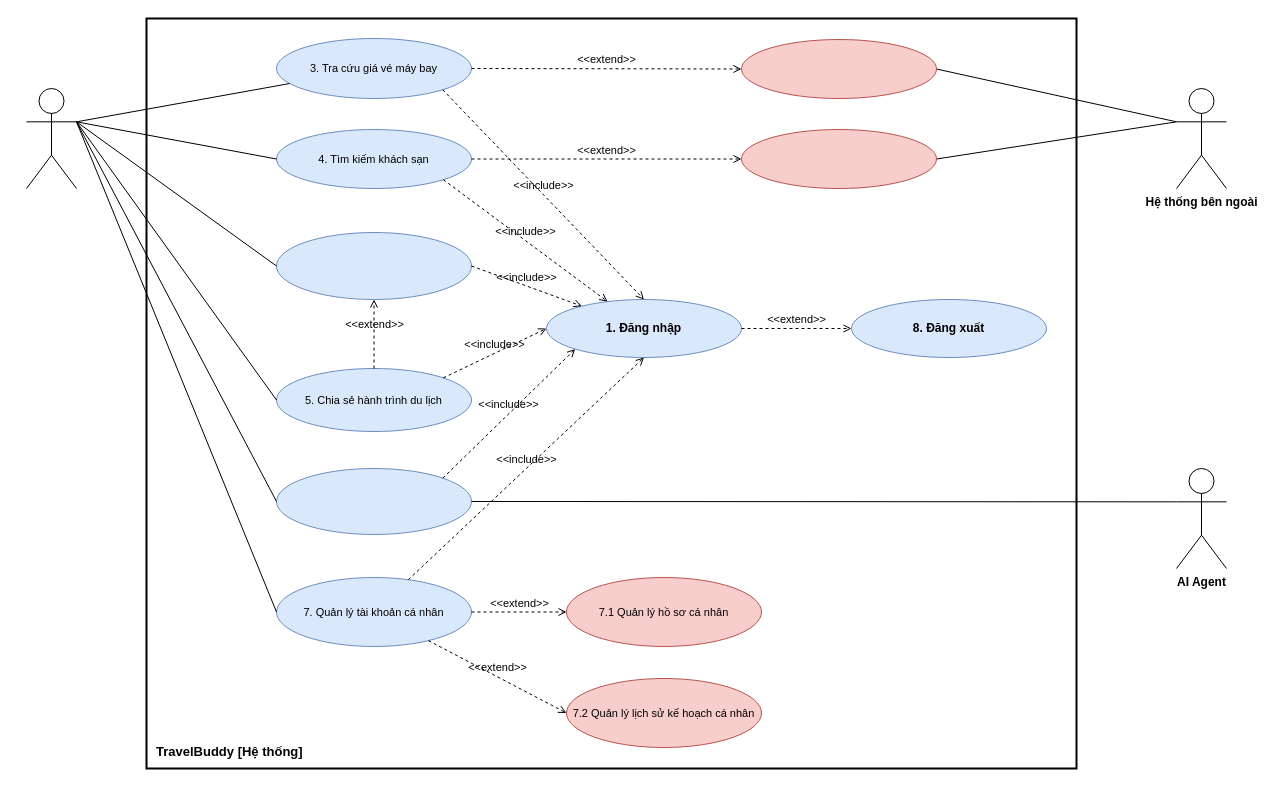
The diagram is 1275 pixels wide and 786 high, and some of its shapes have lost their labels. The centre of each missing label's shape, as x and y in pixels:
"2. Lập kế hoạch chuyến đi" goes at point 374,266.
"3.1 Đặt vé máy bay" goes at point 838,68.
"4.1 Đặt vé khách sạn" goes at point 838,158.
"6. Trò chuyện với Trợ lý AI" goes at point 374,501.
"Người dùng" goes at point 51,138.
